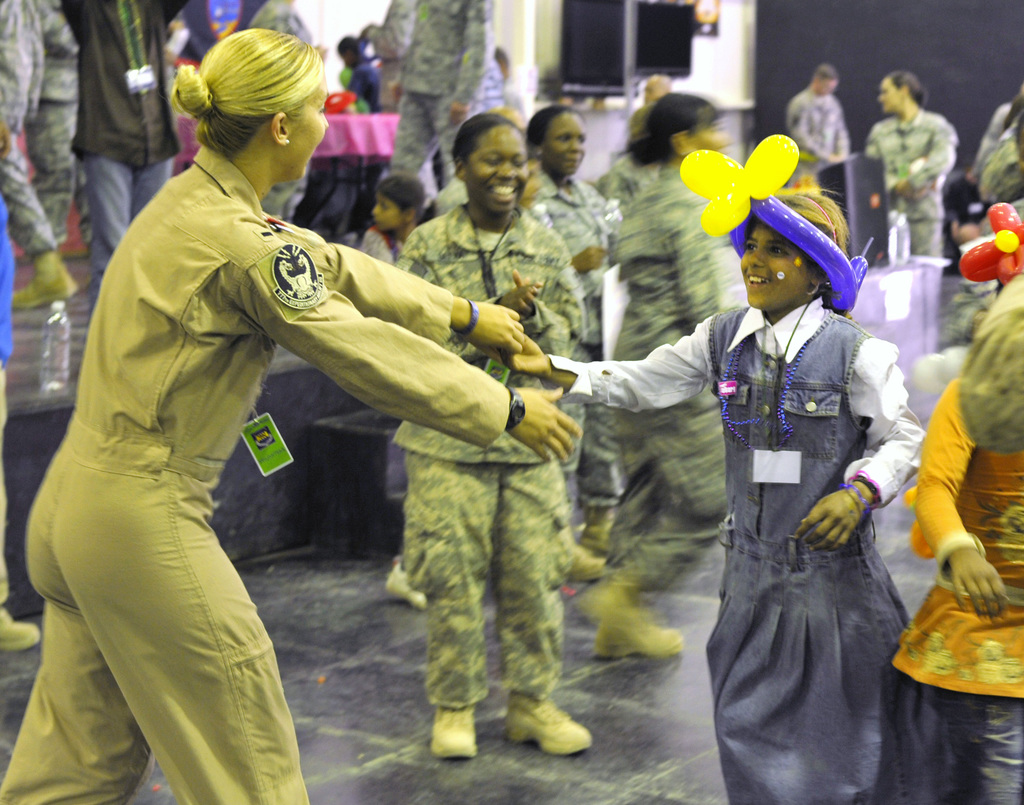Person: (0, 0, 1024, 805)
